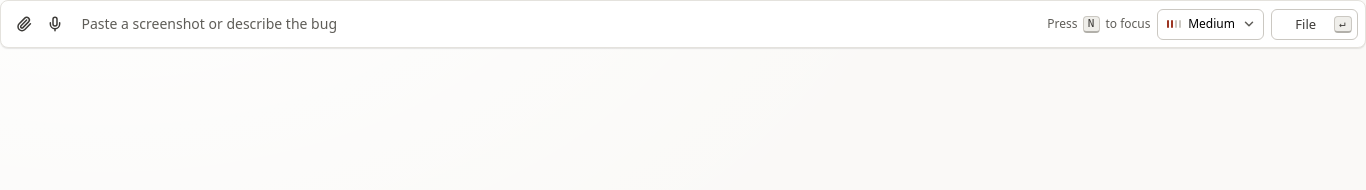
Test: CaptureBar › severity control shows the label, picks from its menu, and resets after filing
The width and height of the screenshot is (1366, 190).
Type "x" into the text box with placeholder "Paste a screenshot or describe the bug". click: {"x": 559, "y": 24}
box: [74,8,1044,40]
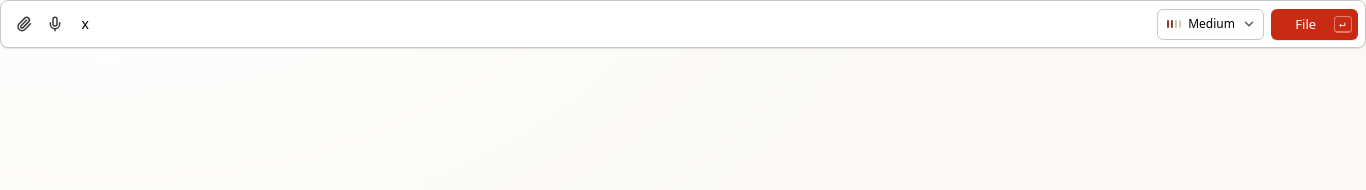
Expected: the button with aria-label "File bug" does not have attribute aria-disabled, [1271,8,1358,40]
Click the button with aria-label "Severity: Medium". click: {"x": 1211, "y": 24}
box: [1157,8,1264,40]
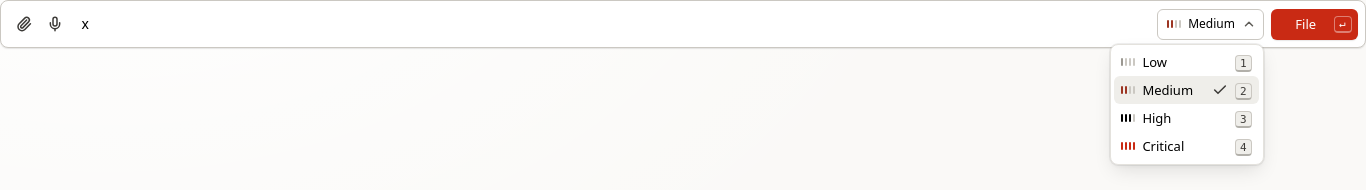
Click the option "High 3". click: {"x": 1122, "y": 118}
box: [1114,104,1259,132]
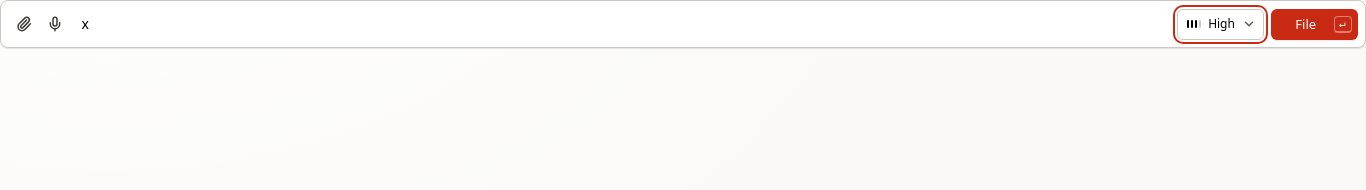
Expected: the button with aria-label "Severity: High" is shown, [1177,8,1264,40]
Click the button with aria-label "File bug". click: {"x": 1314, "y": 24}
box: [1271,8,1358,40]
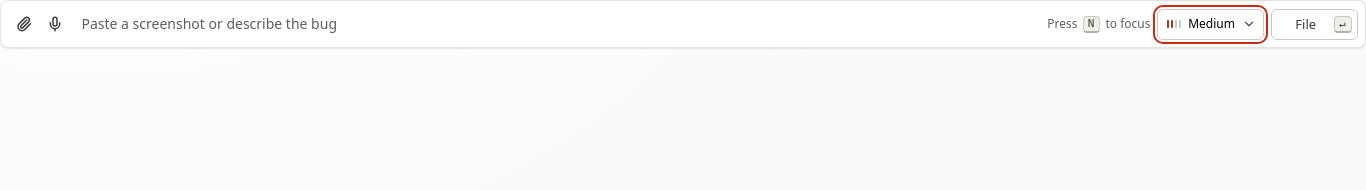
Expected: the button with aria-label "Severity: Medium" is shown, [1157,8,1264,40]
